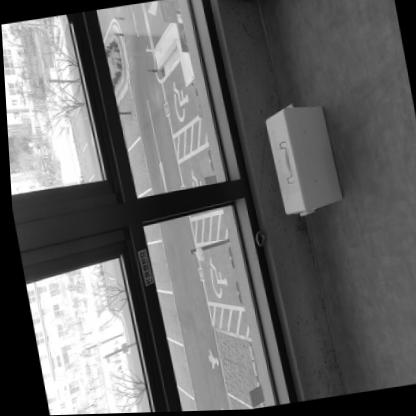DDL: (260, 105, 339, 218)
